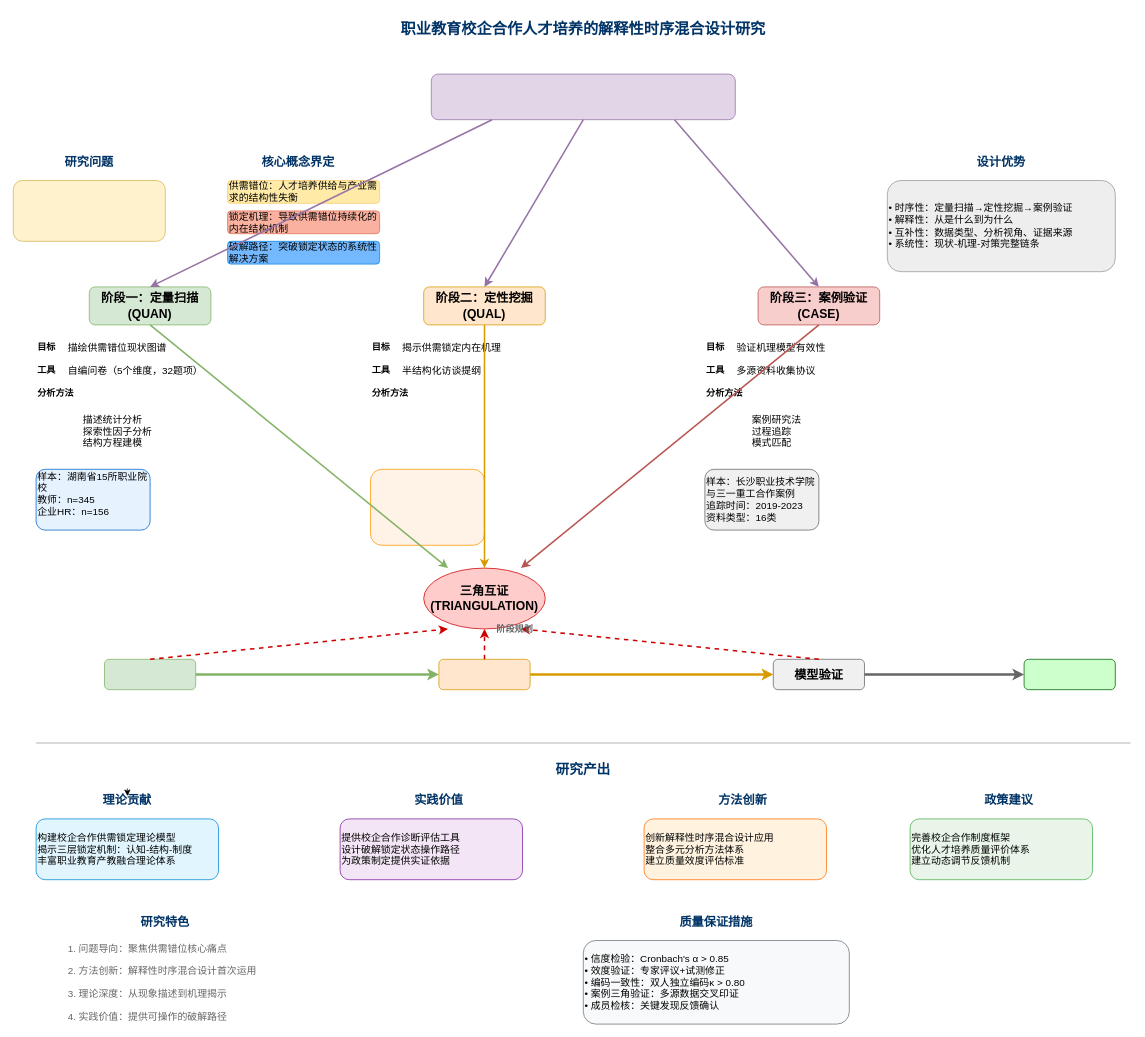
Some shapes in this 1145 by 1037 pixel diagram are drawn without their labels. Here are the shapes that lost their labels. From the top down, the centre of each, then its label:
At point (583, 96): "解释性时序混合设计框架".
At point (89, 210): "职业教育校企合作人才培养中的供需错位现象、锁定机理及其破解路径是什么？".
At point (427, 507): "样本：深度访谈样本 院校管理者：n=12 企业负责人：n=8 一线教师：n=15".
At point (150, 674): "数据收集".
At point (484, 674): "数据处理".
At point (1069, 674): "模式构建".
